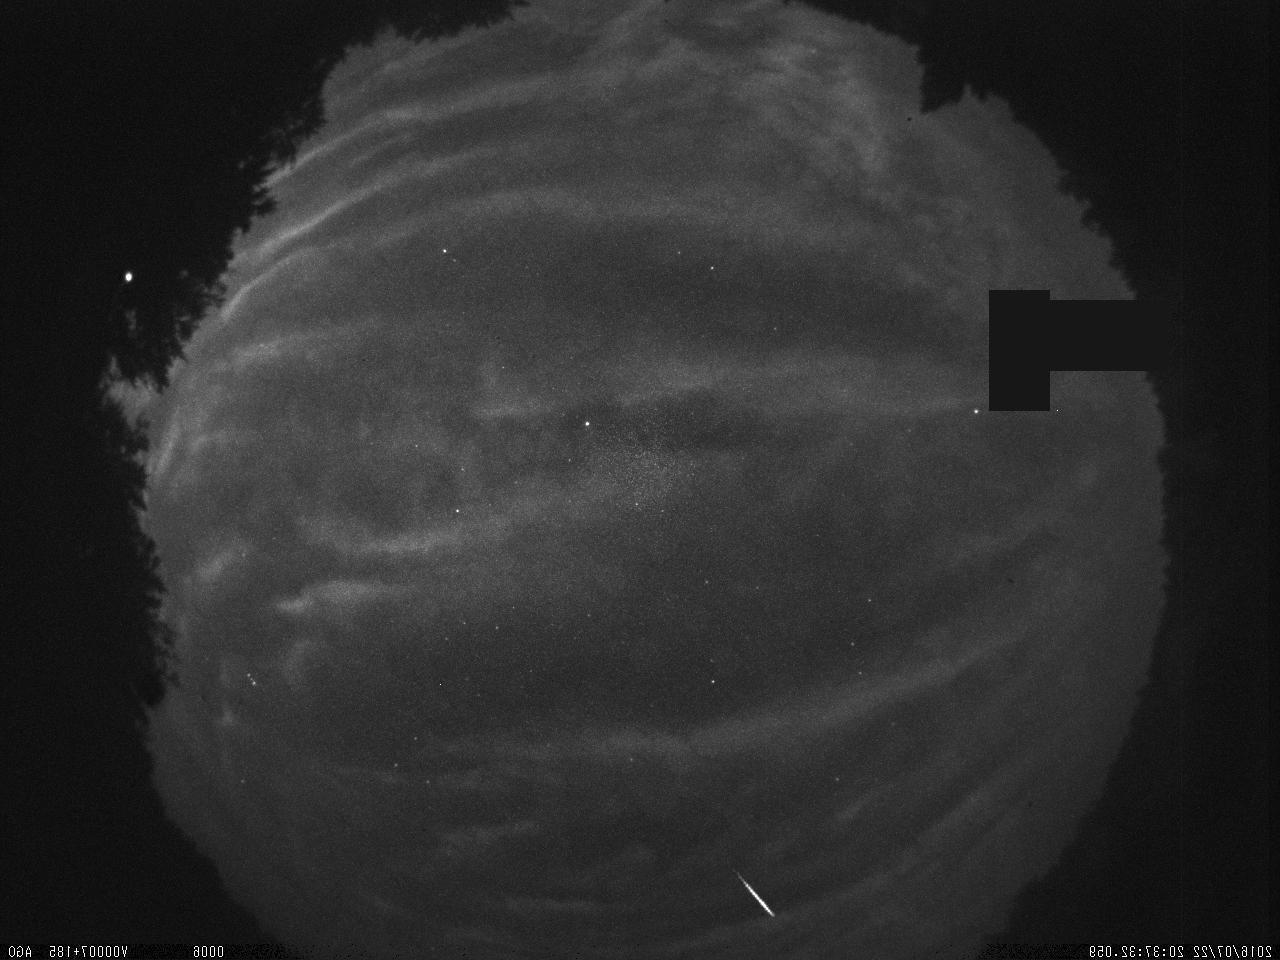meteor: (714, 849, 807, 933)
